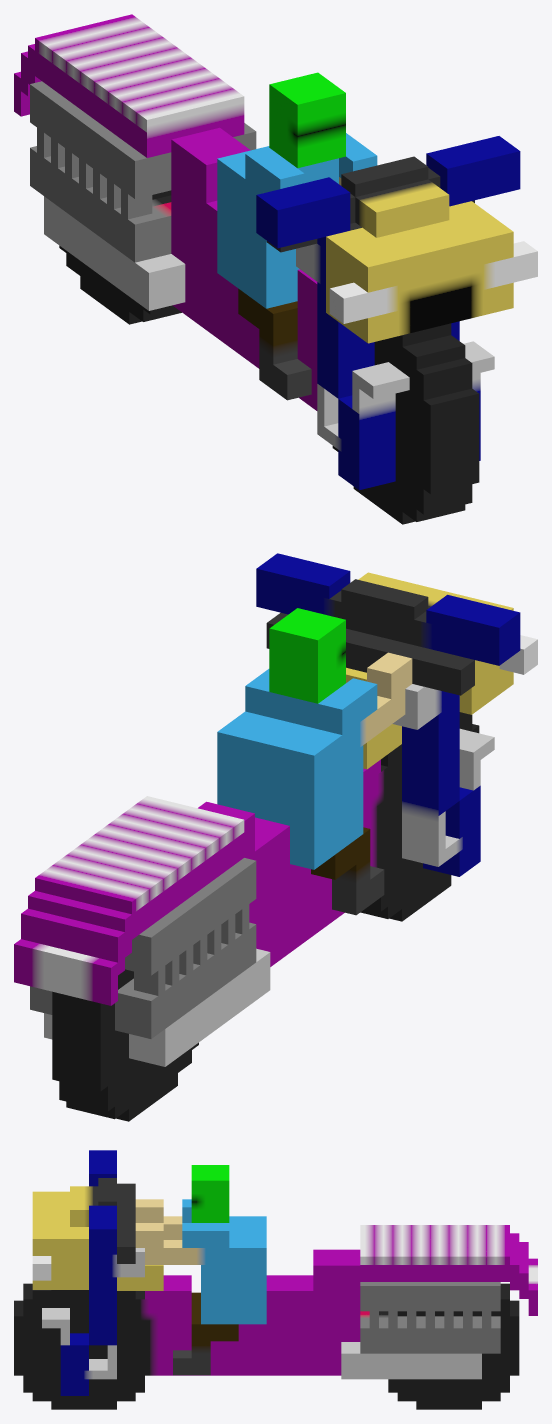
File: Bike_1.fbx
3 views of the same model, one above another, from view 1: azimuth 30°, elevation 25°; view 2: azimuth 150°, elevation 25°; view 3: azimuth 270°, elevation 25° (orthographic). The views are drawn at different scales.
Visible parts, largest first — view 1: Bike_1; view 2: Bike_1; view 3: Bike_1.
Boxes of the visible parts, bbox=[...] form: Bike_1: bbox=[14, 14, 537, 524]; Bike_1: bbox=[14, 553, 537, 1121]; Bike_1: bbox=[14, 1150, 537, 1409].
Size of the model in its own units: 20 by 27 by 56.
Materials: 1 (1 with a texture image).
